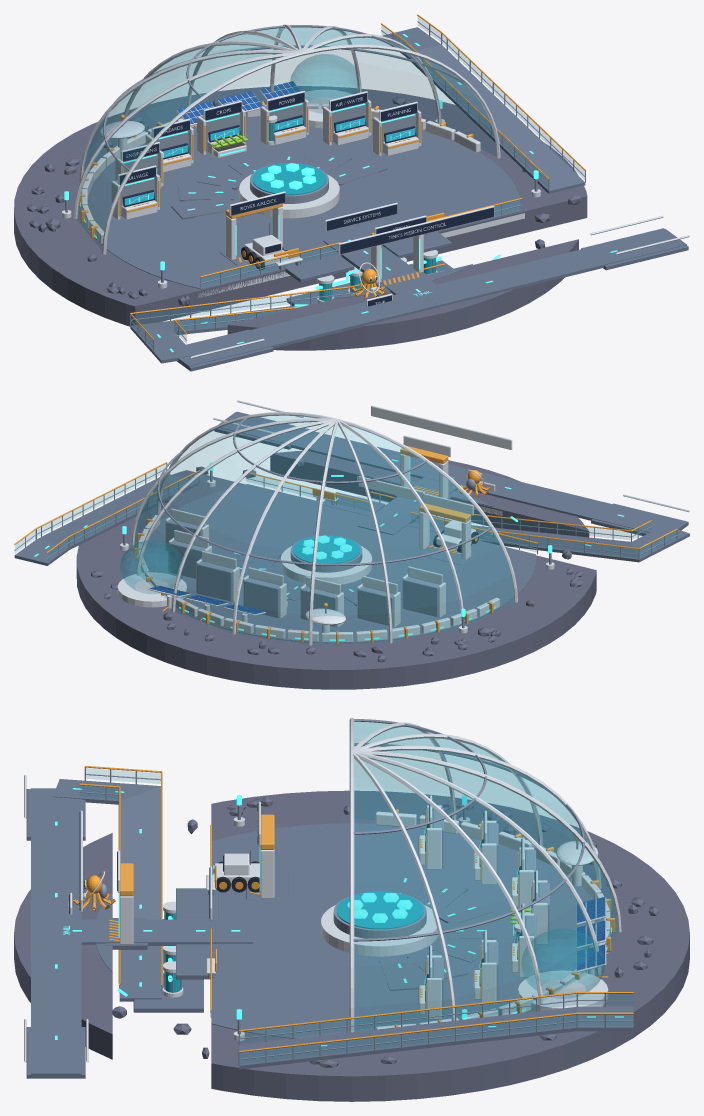
The model's file is tink.glb.
The picture shows the model from 3 angles, top to bottom: view 1: azimuth 30°, elevation 25°; view 2: azimuth 150°, elevation 25°; view 3: azimuth 270°, elevation 25°; orthographic projection. The views are drawn at different scales.
Parts seen in each view (by area): view 1: BATCH_tink floor.001, BATCH_tink rock.002, BATCH_tink glass.002, BATCH_tink white.001, BATCH_tink floor.002, BATCH_tink steel.002, BATCH_tink navy.002, BATCH_tink orange.002, BATCH_tink cyan.002, BATCH_tink rock.001, BATCH_tink water.002, BATCH_tink accent.002 (+3 smaller); view 2: BATCH_tink glass.002, BATCH_tink rock.002, BATCH_tink white.001, BATCH_tink floor.001, BATCH_tink floor.002, BATCH_tink steel.002, BATCH_tink orange.002, BATCH_tink rock.001, BATCH_tink accent.002, BATCH_tink cyan.002, BATCH_tink water.002, BATCH_tink solar.002; view 3: BATCH_tink glass.002, BATCH_tink floor.001, BATCH_tink rock.002, BATCH_tink floor.002, BATCH_tink white.001, BATCH_tink steel.002, BATCH_tink orange.002, BATCH_tink rock.001, BATCH_tink accent.002, BATCH_tink cyan.002, BATCH_tink water.002, BATCH_tink solar.002 (+1 smaller).
Boxes of the visible parts, bbox=[...] form: BATCH_tink floor.001: bbox=[130, 27, 688, 371]; BATCH_tink rock.002: bbox=[14, 86, 587, 350]; BATCH_tink glass.002: bbox=[76, 17, 584, 348]; BATCH_tink white.001: bbox=[62, 24, 689, 358]; BATCH_tink floor.002: bbox=[87, 116, 520, 298]; BATCH_tink steel.002: bbox=[65, 21, 585, 351]; BATCH_tink navy.002: bbox=[119, 92, 493, 306]; BATCH_tink orange.002: bbox=[120, 14, 585, 339]; BATCH_tink cyan.002: bbox=[64, 34, 617, 352]; BATCH_tink rock.001: bbox=[27, 89, 581, 306]; BATCH_tink water.002: bbox=[252, 122, 435, 300]; BATCH_tink accent.002: bbox=[78, 101, 473, 238]; BATCH_tink glass.002: bbox=[15, 415, 676, 644]; BATCH_tink rock.002: bbox=[76, 450, 596, 689]; BATCH_tink white.001: bbox=[117, 400, 689, 645]; BATCH_tink floor.001: bbox=[14, 411, 689, 605]; BATCH_tink floor.002: bbox=[143, 476, 536, 643]; BATCH_tink steel.002: bbox=[14, 417, 677, 628]; BATCH_tink orange.002: bbox=[14, 462, 677, 620]; BATCH_tink rock.001: bbox=[91, 458, 583, 662]; BATCH_tink accent.002: bbox=[134, 446, 493, 644]; BATCH_tink cyan.002: bbox=[34, 433, 645, 640]; BATCH_tink water.002: bbox=[293, 535, 360, 563]; BATCH_tink solar.002: bbox=[150, 586, 265, 614]; BATCH_tink glass.002: bbox=[80, 721, 633, 1063]; BATCH_tink floor.001: bbox=[26, 779, 633, 1078]; BATCH_tink rock.002: bbox=[14, 790, 689, 1101]; BATCH_tink floor.002: bbox=[96, 823, 602, 1038]; BATCH_tink white.001: bbox=[24, 718, 621, 1062]; BATCH_tink steel.002: bbox=[79, 719, 633, 1066]; BATCH_tink orange.002: bbox=[79, 765, 633, 1052]; BATCH_tink rock.001: bbox=[112, 796, 658, 1067]; BATCH_tink accent.002: bbox=[119, 809, 615, 1027]; BATCH_tink cyan.002: bbox=[55, 788, 623, 1046]; BATCH_tink water.002: bbox=[165, 891, 520, 992]; BATCH_tink solar.002: bbox=[577, 897, 605, 970].
Size of the model in its own units: 49.48 by 17.01 by 48.
